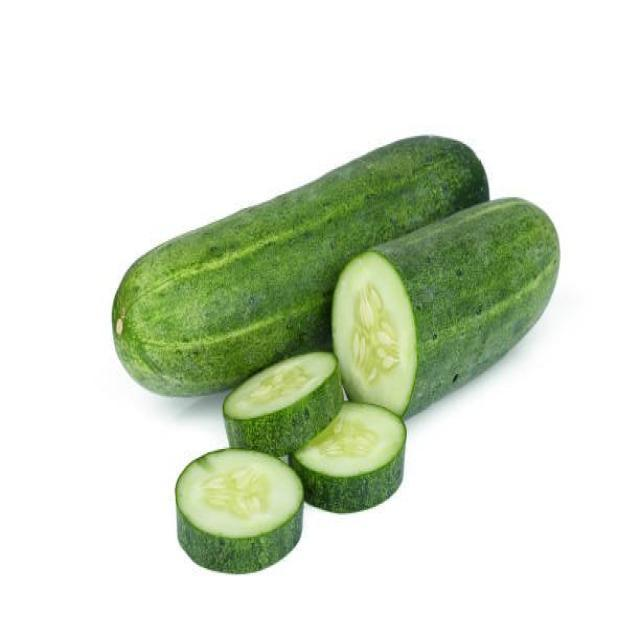cucumber: (112, 136, 562, 418)
